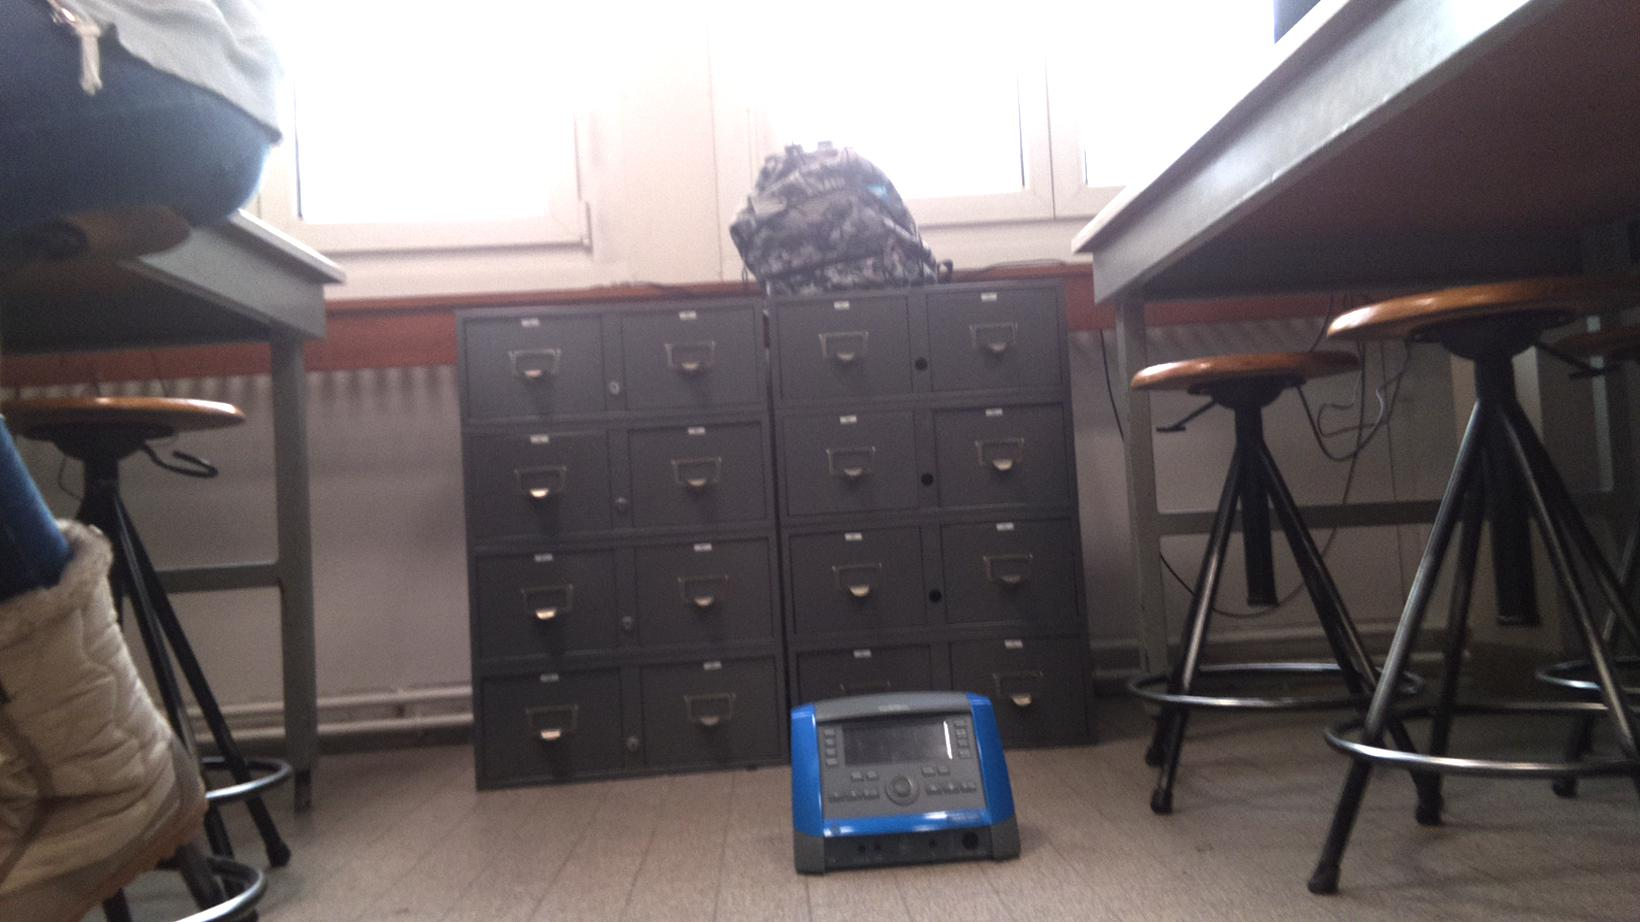big: (729, 145, 934, 288)
medium: (787, 692, 1020, 866)
